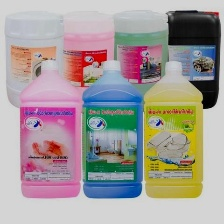cleaning_solution: (80, 58, 147, 201), (19, 59, 84, 201), (142, 58, 205, 200), (1, 6, 69, 110), (155, 7, 221, 111), (107, 9, 171, 114), (59, 7, 118, 111)
